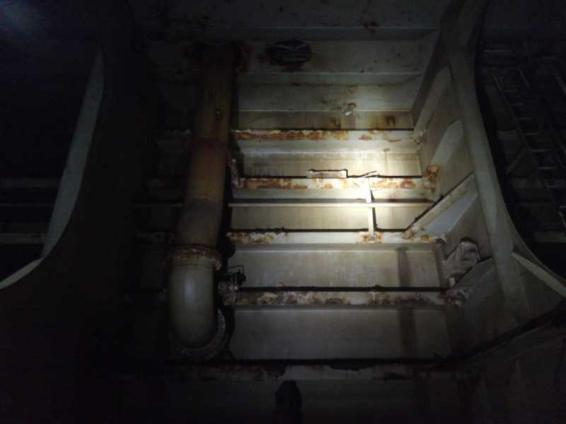corrosion: (284, 280, 357, 309), (258, 35, 324, 65), (352, 287, 434, 307), (282, 124, 355, 143), (231, 172, 311, 189), (224, 286, 281, 307), (362, 125, 409, 147), (227, 232, 295, 245), (231, 121, 276, 140), (416, 159, 441, 192), (366, 176, 422, 189), (308, 171, 351, 187), (406, 233, 436, 246), (359, 232, 395, 242)
